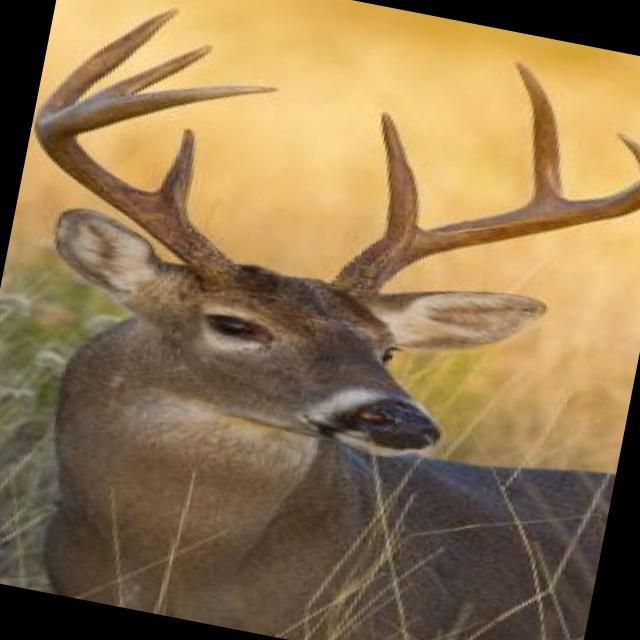L-F: (332, 133, 640, 300)
L-G1: (379, 109, 422, 236)
L-G2: (509, 60, 567, 206)
R-F: (33, 85, 286, 293)
R-G1: (150, 125, 197, 220)
R-G2: (36, 5, 181, 118)
R-G3: (93, 42, 215, 95)
